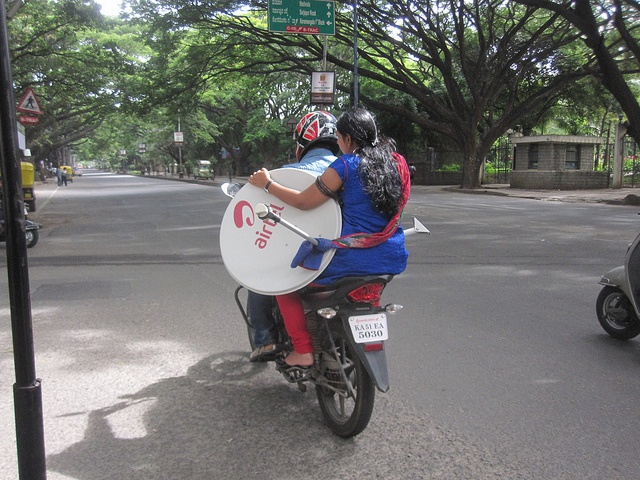non-vehicle: (299, 272, 395, 443), (595, 233, 639, 339), (0, 214, 42, 249)
